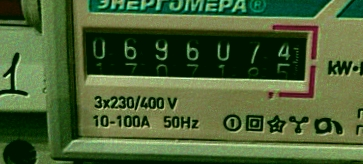0: (87, 34, 107, 60), (214, 36, 231, 62)
4: (275, 37, 292, 61)
5: (275, 61, 290, 79)
6: (120, 33, 140, 61), (182, 37, 200, 61)
7: (243, 38, 262, 64)
9: (150, 36, 170, 61)
screen: (68, 12, 323, 101)
